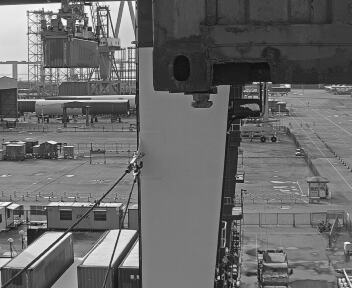twist_lock_1: (178, 85, 222, 115)
